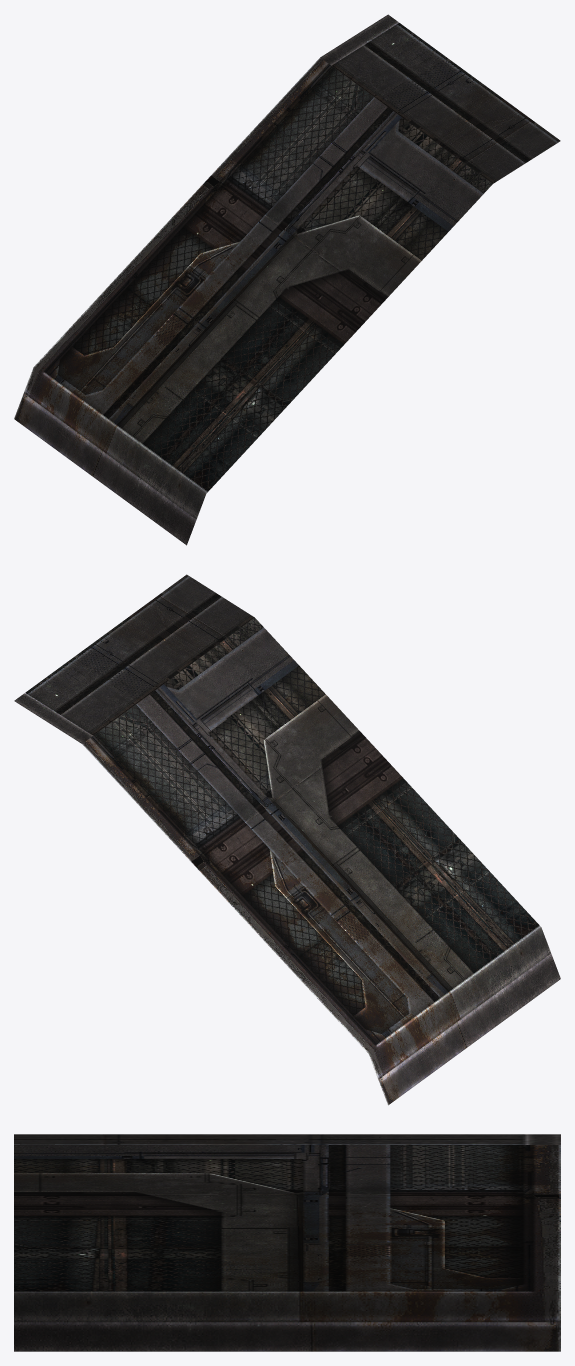
Rendered from Wall_H_DarkBlock_05.fbx.
3 views of the same model, one above another, from view 1: azimuth 30°, elevation 25°; view 2: azimuth 150°, elevation 25°; view 3: azimuth 270°, elevation 25° (orthographic). The views are drawn at different scales.
Visible parts, largest first — view 1: Wall_H_DarkBlock_05; view 2: Wall_H_DarkBlock_05; view 3: Wall_H_DarkBlock_05.
Part boxes in pixels (x1,y1,x2,y2): Wall_H_DarkBlock_05: (14, 14, 560, 545); Wall_H_DarkBlock_05: (14, 574, 560, 1105); Wall_H_DarkBlock_05: (14, 1134, 560, 1351).
Bounding box in the file's own units: 500 × 400 × 400.
Materials: 1 (1 with a texture image).
